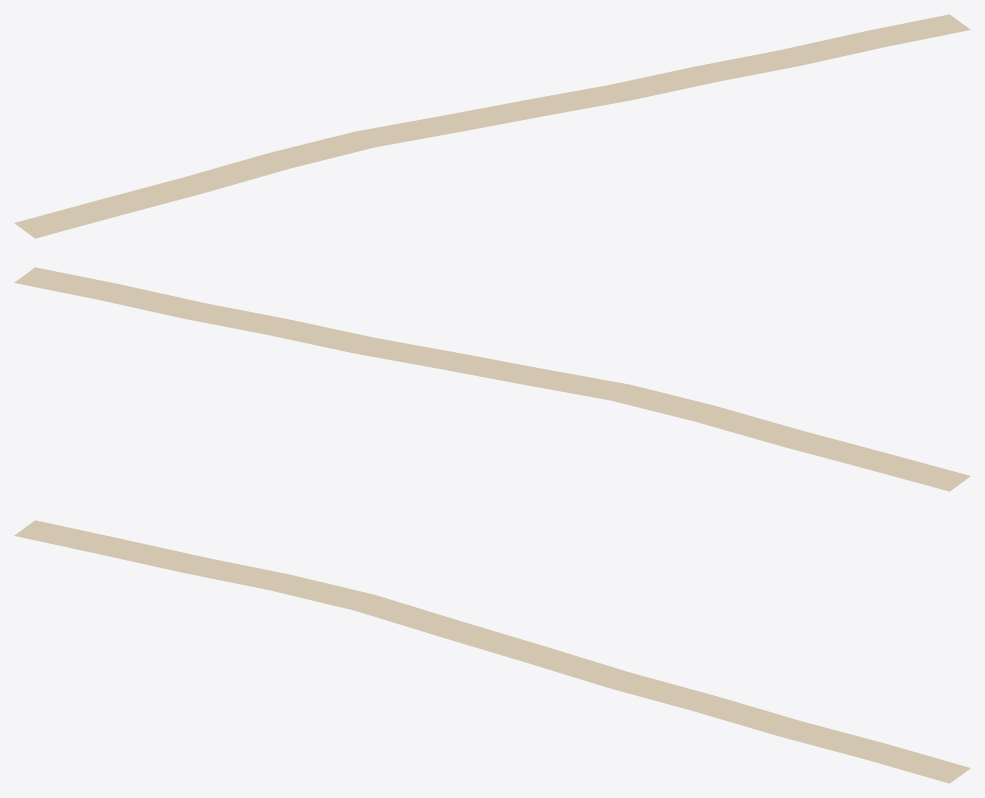
The model's file is eb_path_2230.glb.
3 renders of one model, top to bottom at view 1: azimuth 30°, elevation 25°; view 2: azimuth 150°, elevation 25°; view 3: azimuth 330°, elevation 25°, orthographic.
Parts seen in each view (by area): view 1: eb_path_2230_lod0; view 2: eb_path_2230_lod0; view 3: eb_path_2230_lod0.
Part boxes in pixels (x1=…): eb_path_2230_lod0: x1=14, y1=14, x2=970, y2=238; eb_path_2230_lod0: x1=14, y1=267, x2=970, y2=491; eb_path_2230_lod0: x1=14, y1=520, x2=970, y2=783.
Size of what is drawn, in the model's own units: 66 by 1.88 by 2.6.
